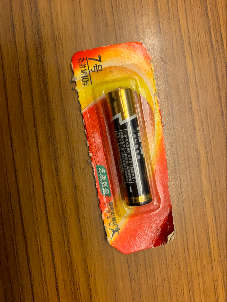Nonfood: (71, 35, 180, 258)
